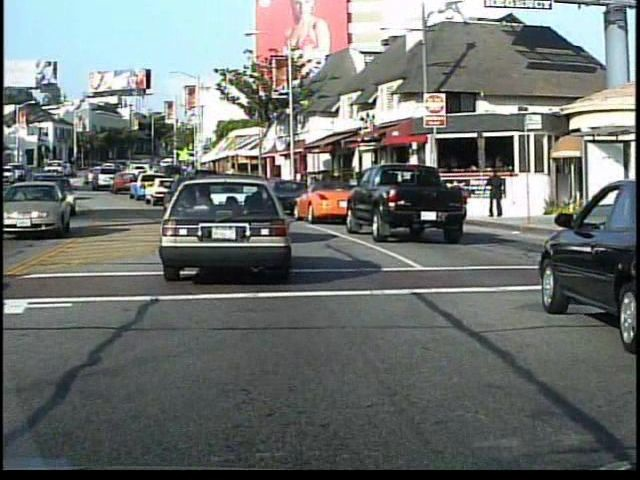person: (485, 169, 505, 223)
